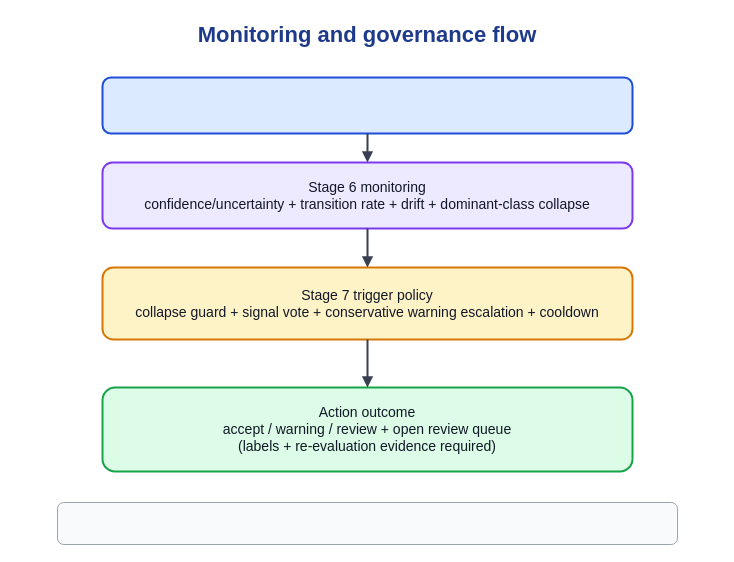
Some shapes in this 734 by 562 pixel diagram are drawn without their labels. Each missing label, with the centre of its shape:
"Severity routes to governance; it does not automatically mutate the model." belongs at point 367,523.
"Stage 6 prediction per-window class probabilities" belongs at point 367,105.
